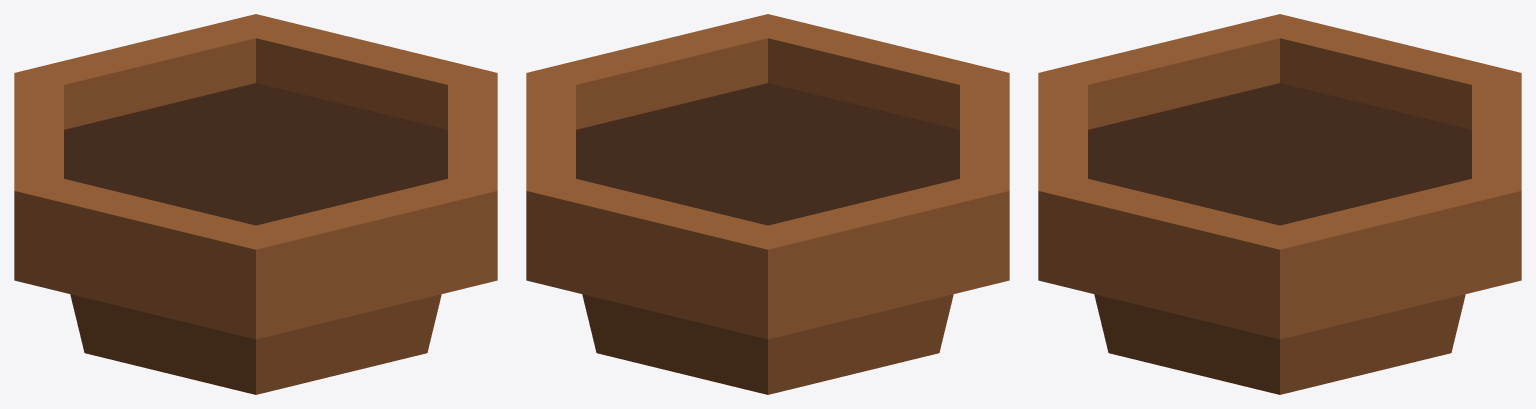
Rendered from pot_large.glb.
3 views of the same model, side by side, from view 1: azimuth 30°, elevation 25°; view 2: azimuth 150°, elevation 25°; view 3: azimuth 270°, elevation 25° (orthographic).
Visible parts, largest first — view 1: pot_large; view 2: pot_large; view 3: pot_large.
Part boxes in pixels (<box>): pot_large: <box>14,14,497,394</box>; pot_large: <box>526,14,1009,394</box>; pot_large: <box>1038,14,1521,394</box>.
Bounding box in the file's own units: 0.5636 × 0.2 × 0.4881.
